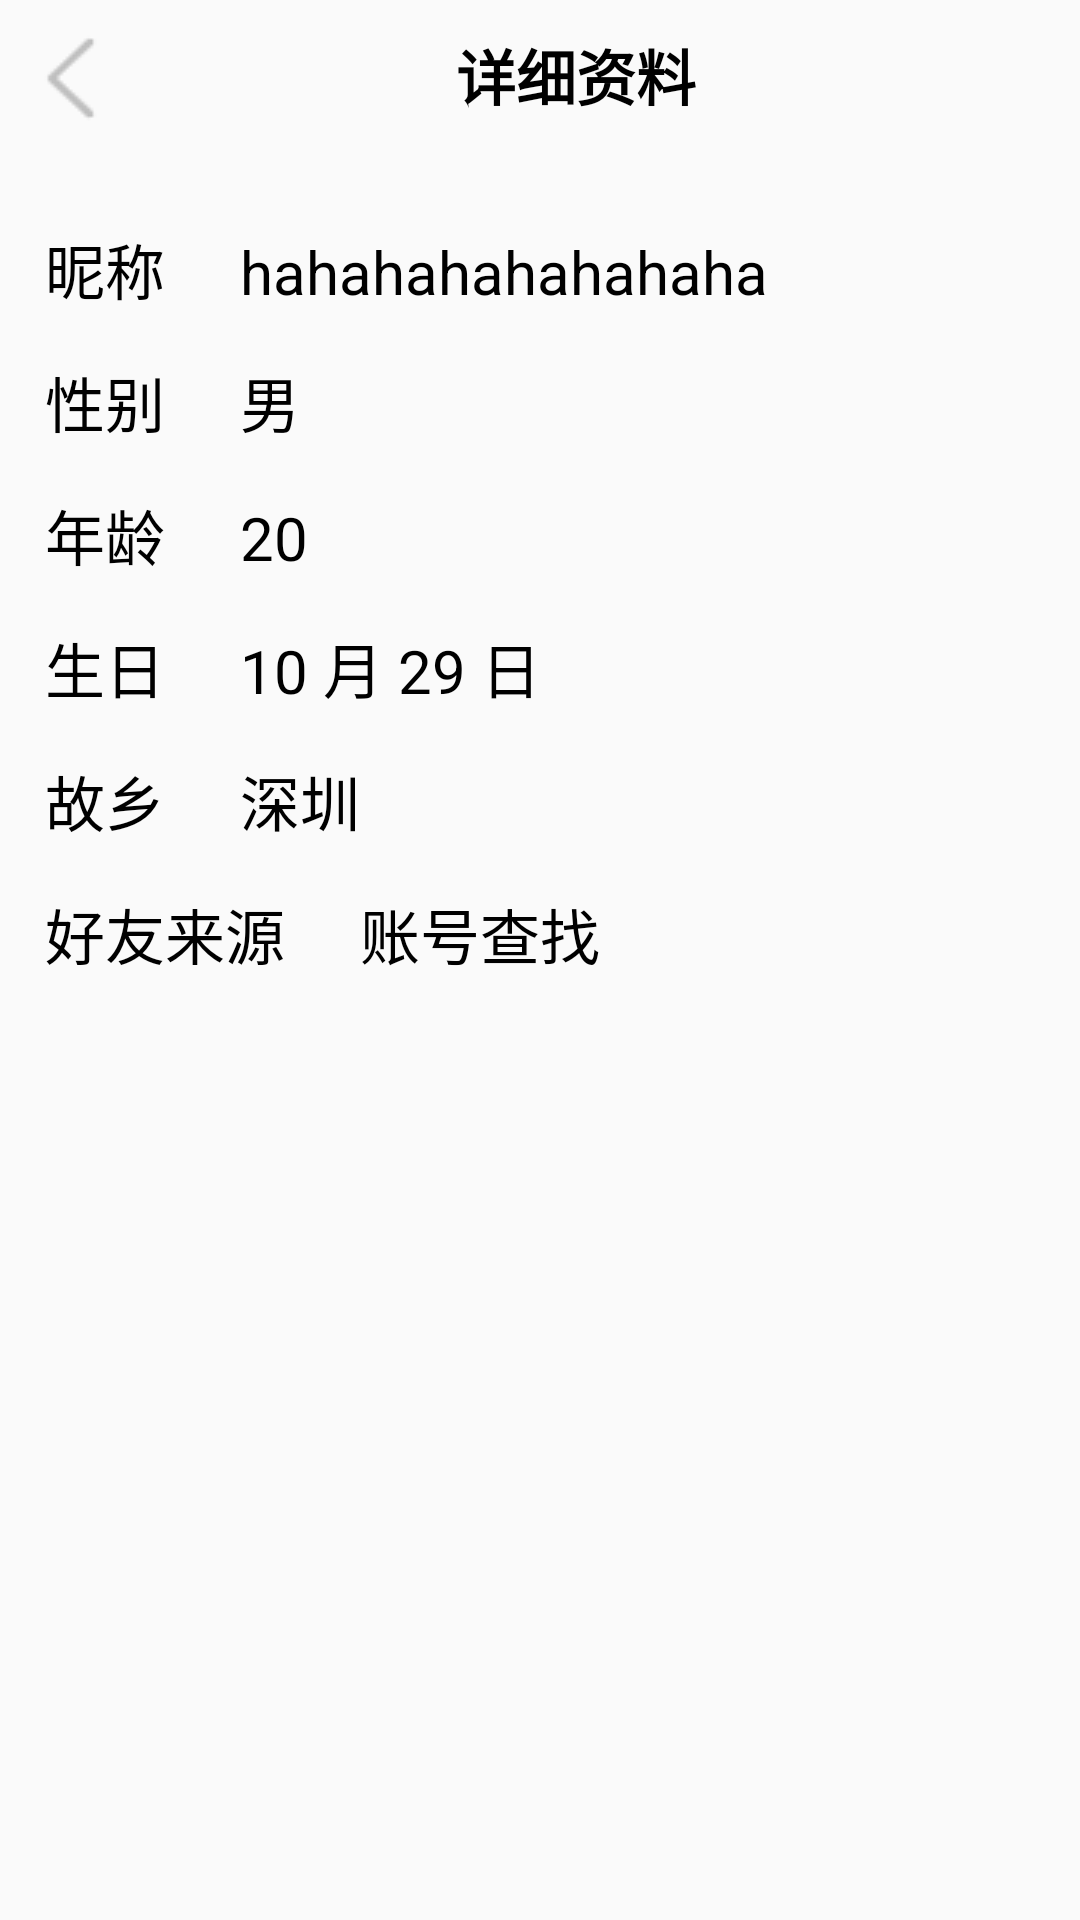

Icons on this 1080px x 1920px Android screen, each with its box as (x1, y1, x2, y2):
back: (48, 39, 93, 118)
